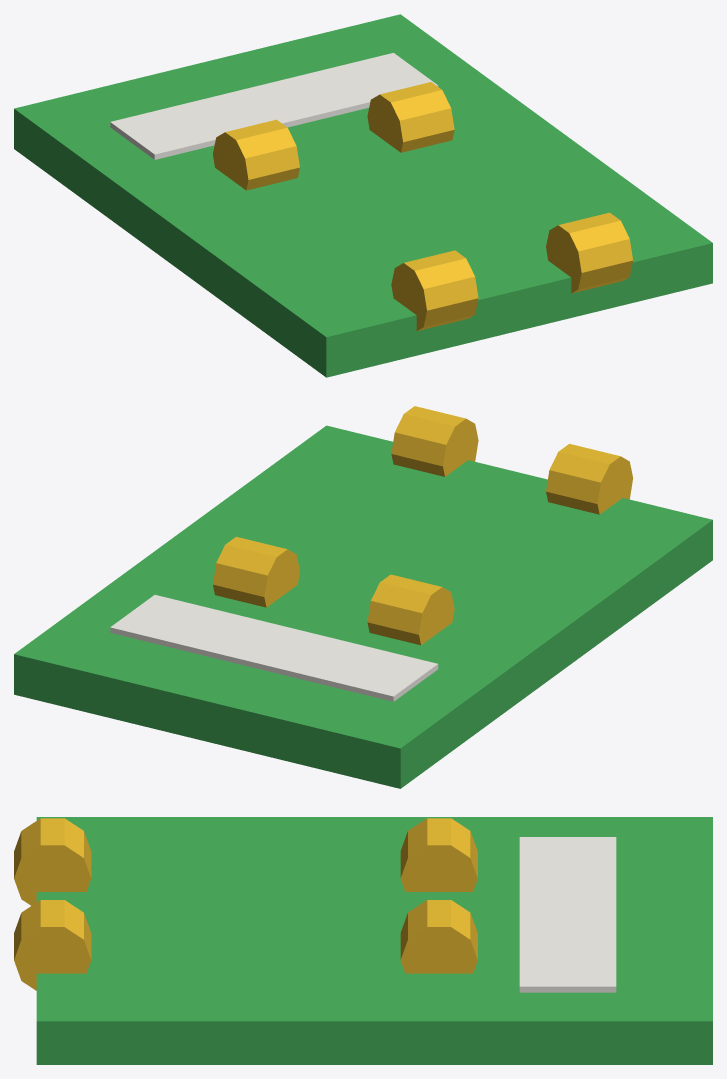
Rendered from bowl_skate_manual.glb.
3 views of the same model, one above another, from view 1: azimuth 30°, elevation 25°; view 2: azimuth 150°, elevation 25°; view 3: azimuth 270°, elevation 25° (orthographic). The views are drawn at different scales.
Parts seen in each view (by area): view 1: cover_manual_cover, wheels_skate_wheel, title_manual_title; view 2: cover_manual_cover, wheels_skate_wheel, title_manual_title; view 3: cover_manual_cover, wheels_skate_wheel, title_manual_title.
Boxes of the visible parts, x1=… form: cover_manual_cover: x1=14, y1=14, x2=712, y2=377; wheels_skate_wheel: x1=213, y1=82, x2=633, y2=331; title_manual_title: x1=110, y1=53, x2=438, y2=159; cover_manual_cover: x1=14, y1=425, x2=712, y2=788; wheels_skate_wheel: x1=213, y1=406, x2=632, y2=645; title_manual_title: x1=110, y1=595, x2=438, y2=701; cover_manual_cover: x1=36, y1=817, x2=712, y2=1064; wheels_skate_wheel: x1=14, y1=818, x2=477, y2=990; title_manual_title: x1=519, y1=837, x2=616, y2=992.
Bounding box in the file's own units: 0.15 × 0.0309 × 0.217.
